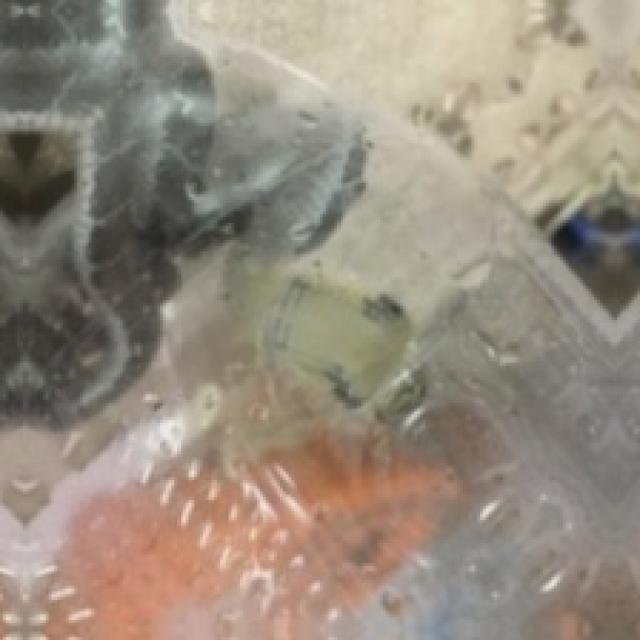king cobra: (0, 0, 432, 423)
